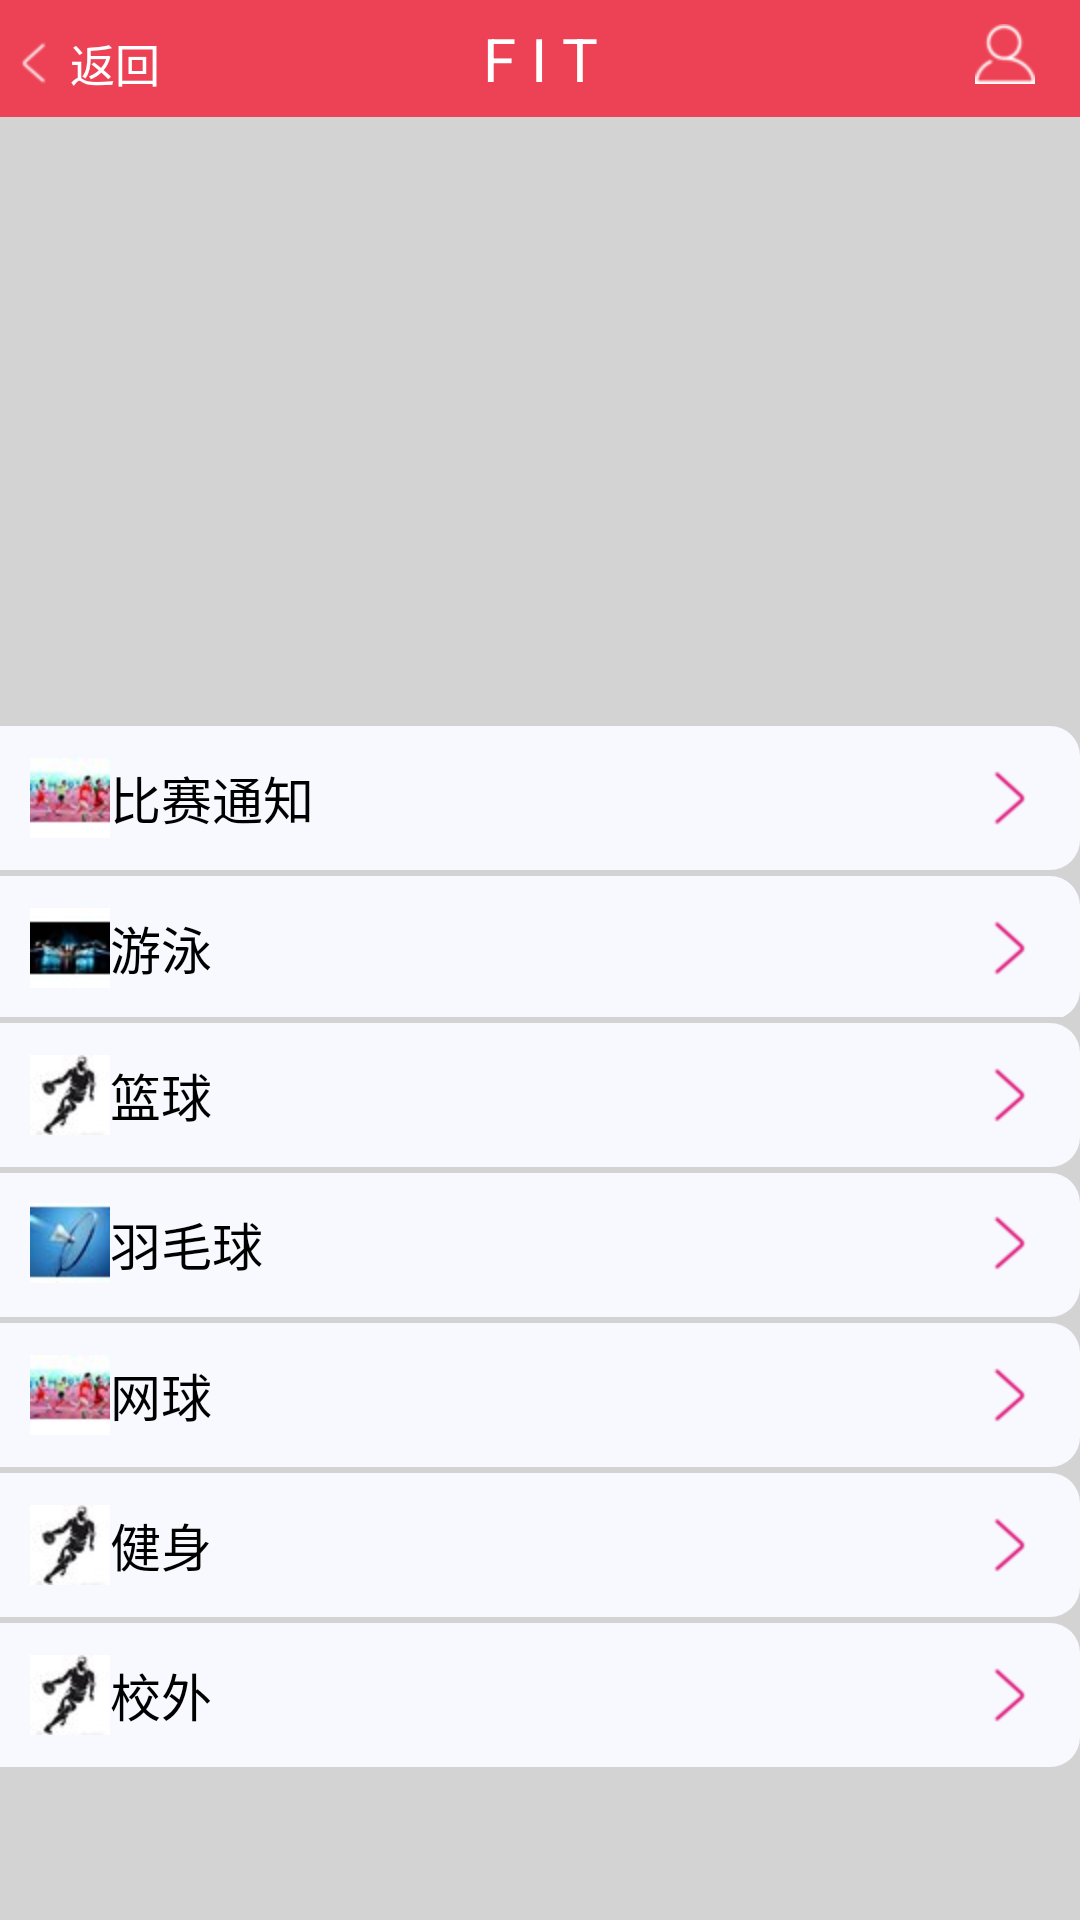

Locate icon controls on the screen. Image size 1080w x 1920h, boxes as (x1, y1, x2, y2).
user: (975, 24, 1035, 84)
